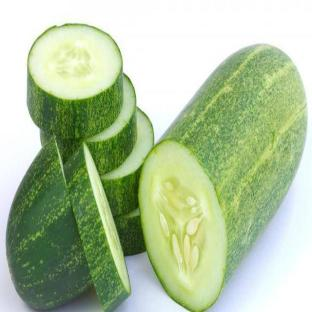Cucumber: (139, 46, 307, 311), (6, 138, 91, 309), (64, 144, 130, 311), (28, 25, 122, 138), (57, 74, 136, 173), (101, 109, 154, 215), (115, 209, 145, 255)
